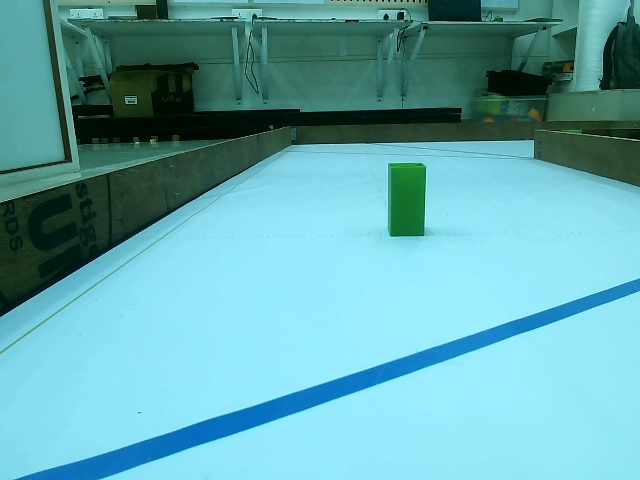green: (388, 164, 423, 237)
